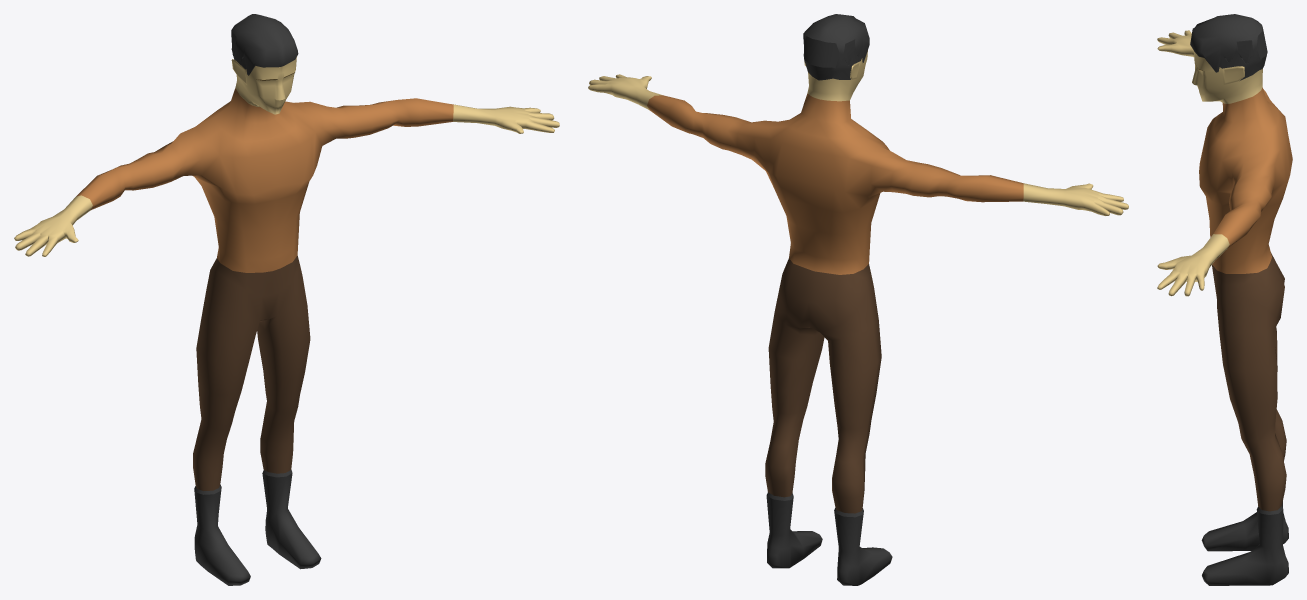
File: Benet.fbx
3 views of the same model, side by side, from view 1: azimuth 30°, elevation 25°; view 2: azimuth 150°, elevation 25°; view 3: azimuth 270°, elevation 25° (orthographic).
Parts seen in each view (by area): view 1: Benet; view 2: Benet; view 3: Benet.
Boxes of the visible parts, box(x1,y1,x2,y2) form: Benet: box(14, 14, 559, 585); Benet: box(588, 14, 1128, 585); Benet: box(1157, 14, 1292, 585).
Size of the model in its own units: 190 by 184 by 41.43.
